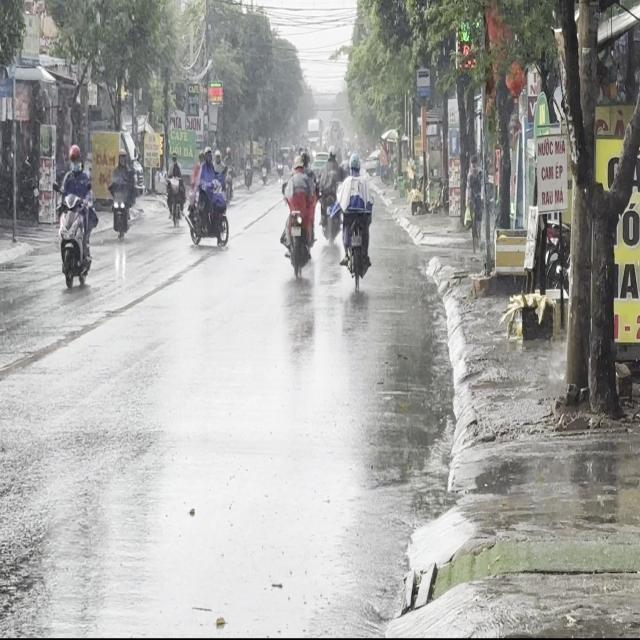helmet: (68, 143, 81, 169)
licenseplate: (55, 142, 95, 289)
